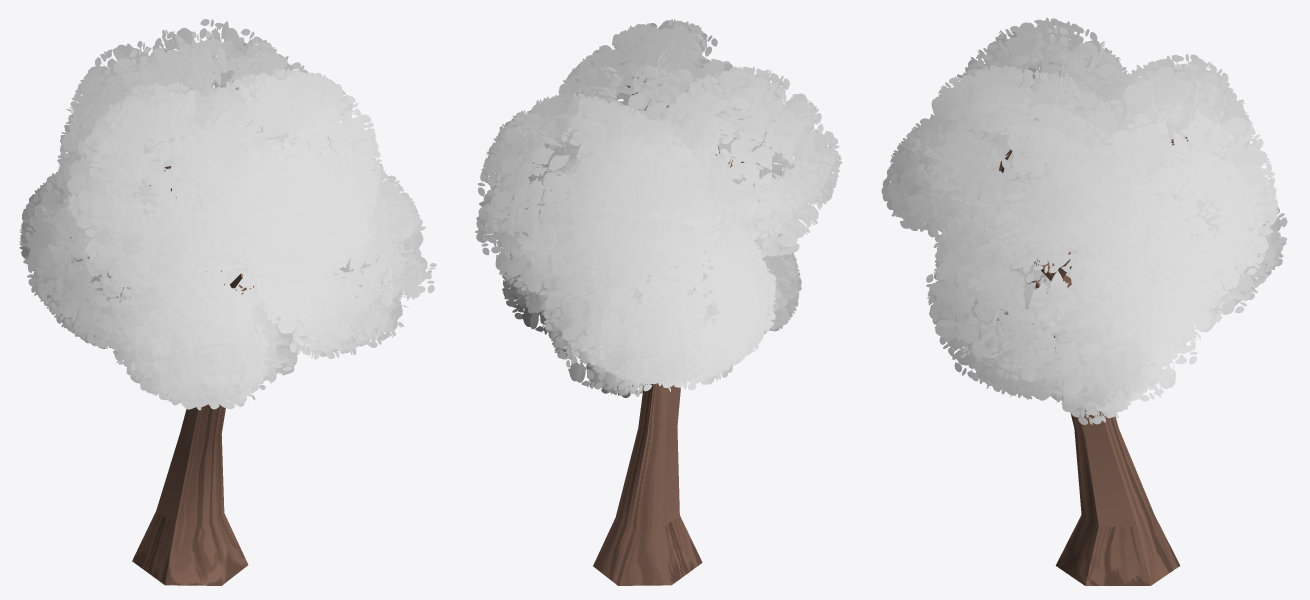
Rendered from Heavy tree.fbx.
3 views of the same model, side by side, from view 1: azimuth 30°, elevation 25°; view 2: azimuth 150°, elevation 25°; view 3: azimuth 270°, elevation 25° (orthographic). The views are drawn at different scales.
Parts seen in each view (by area): view 1: leaves, trunk; view 2: leaves, trunk; view 3: leaves, trunk.
Boxes of the visible parts, x1,y1,x2,y2 form: leaves: [19, 19, 436, 410]; trunk: [132, 166, 254, 585]; leaves: [475, 19, 842, 397]; trunk: [593, 85, 743, 585]; leaves: [881, 17, 1287, 424]; trunk: [999, 137, 1188, 585].
Bounding box in the file's own units: 6.77 × 10.19 × 7.48.
